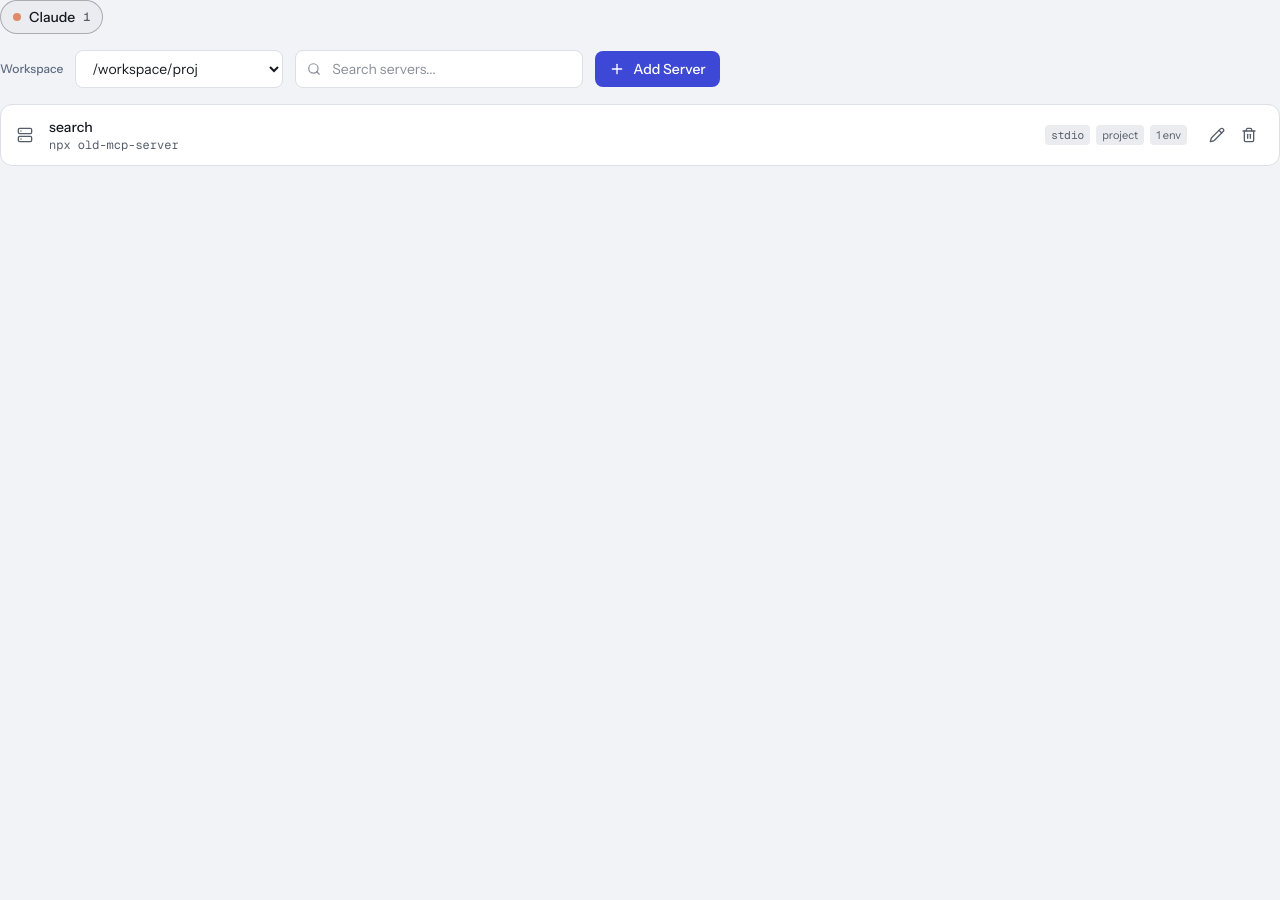
Test: McpPage modal edit › editing a server pre-fills the form and saves via remove-then-add
Expected: the text "search" is shown, [49,118,93,136]
Click the button named "Edit search" at (1217, 135), box [1203,121,1231,149]
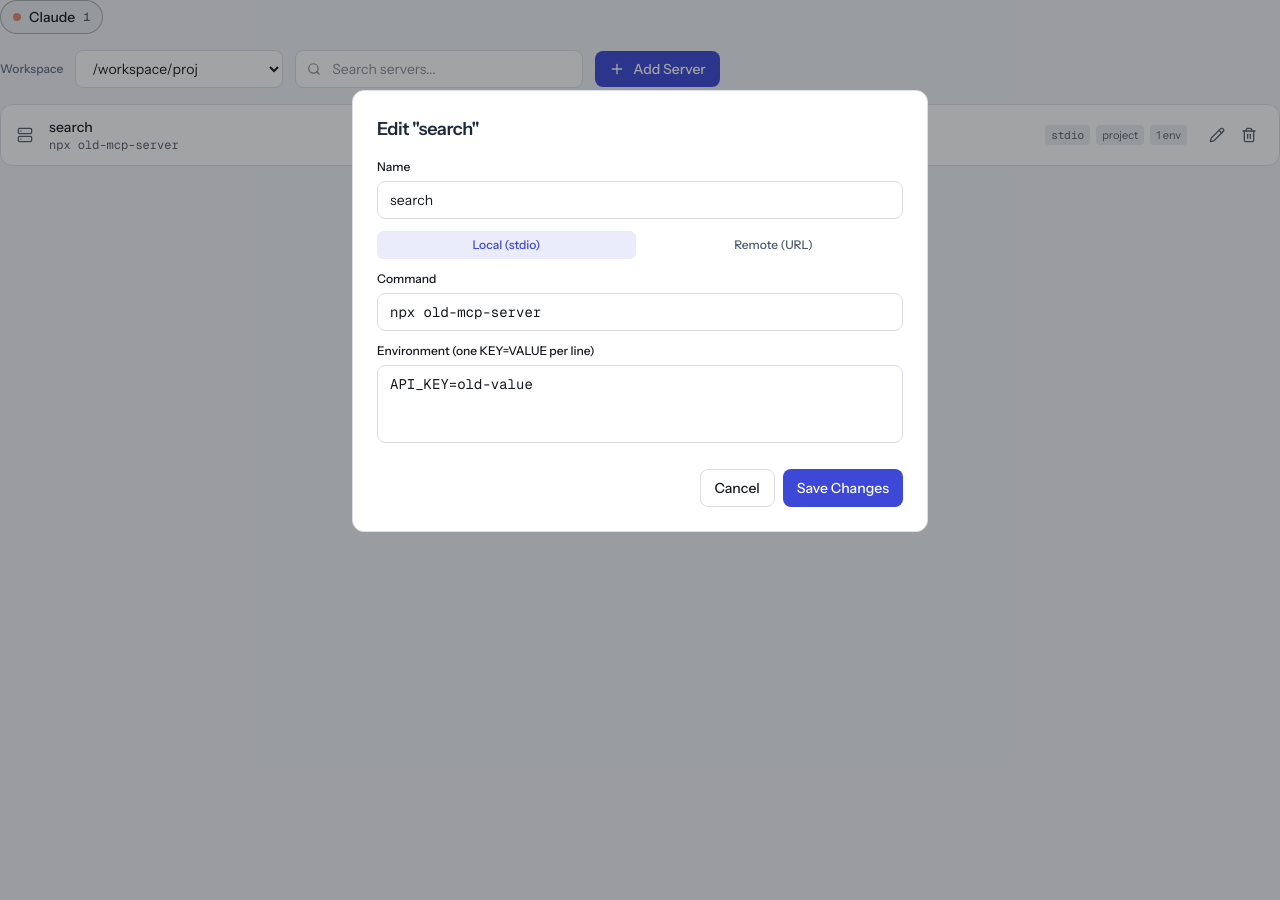
Result: the heading "Edit \"search\"" is shown at [377,118,479,140]
Result: the field with placeholder "my-server" holds "search" at [377,181,903,219]
Result: the field with placeholder "npx my-mcp-server --flag" holds "npx old-mcp-server"
Replace the text in the field with placeholder "npx my-mcp-server --flag" with "npx new-mcp-server" at (640, 312), box [377,293,903,331]
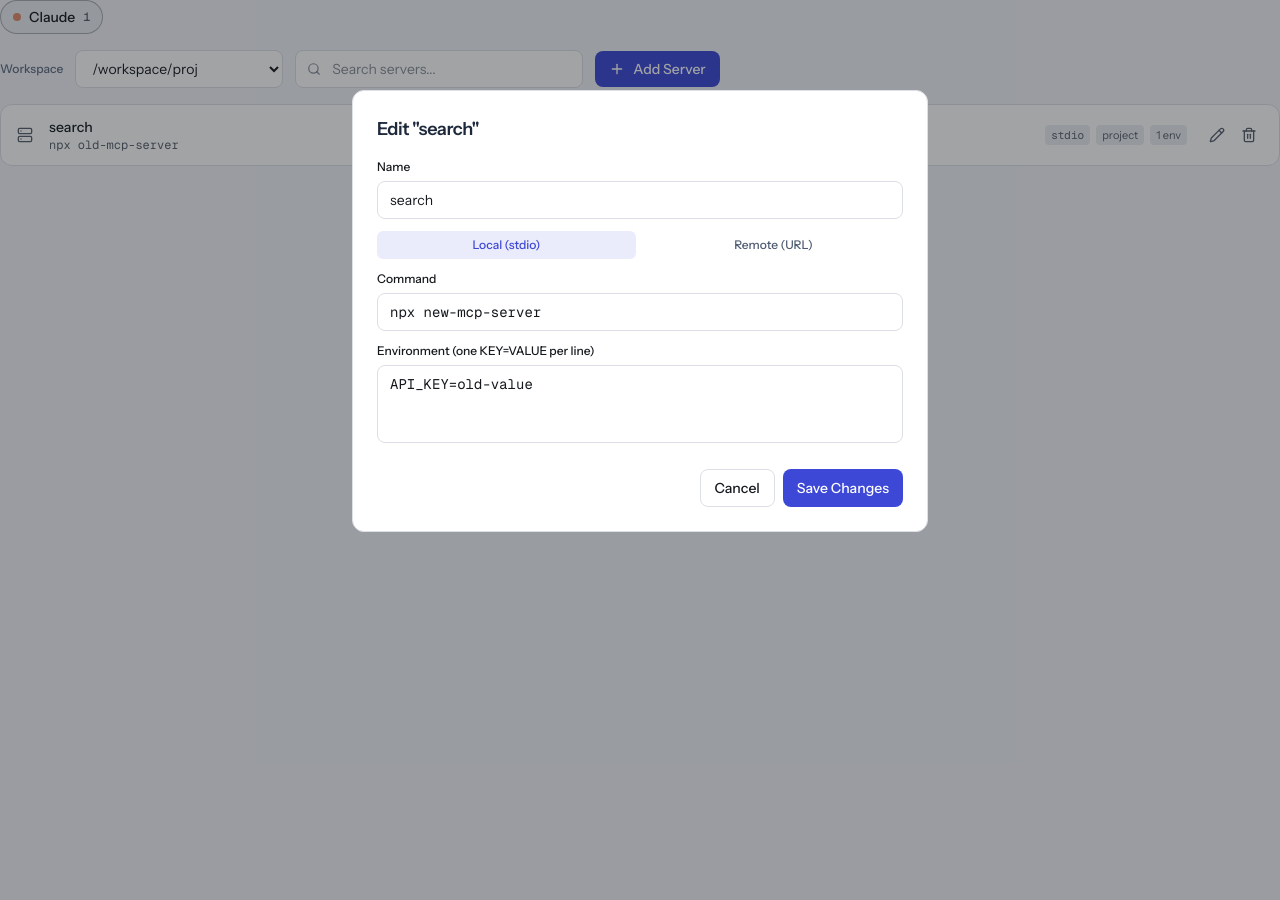
Click the button "Save Changes" at (843, 488), box [783,469,903,507]
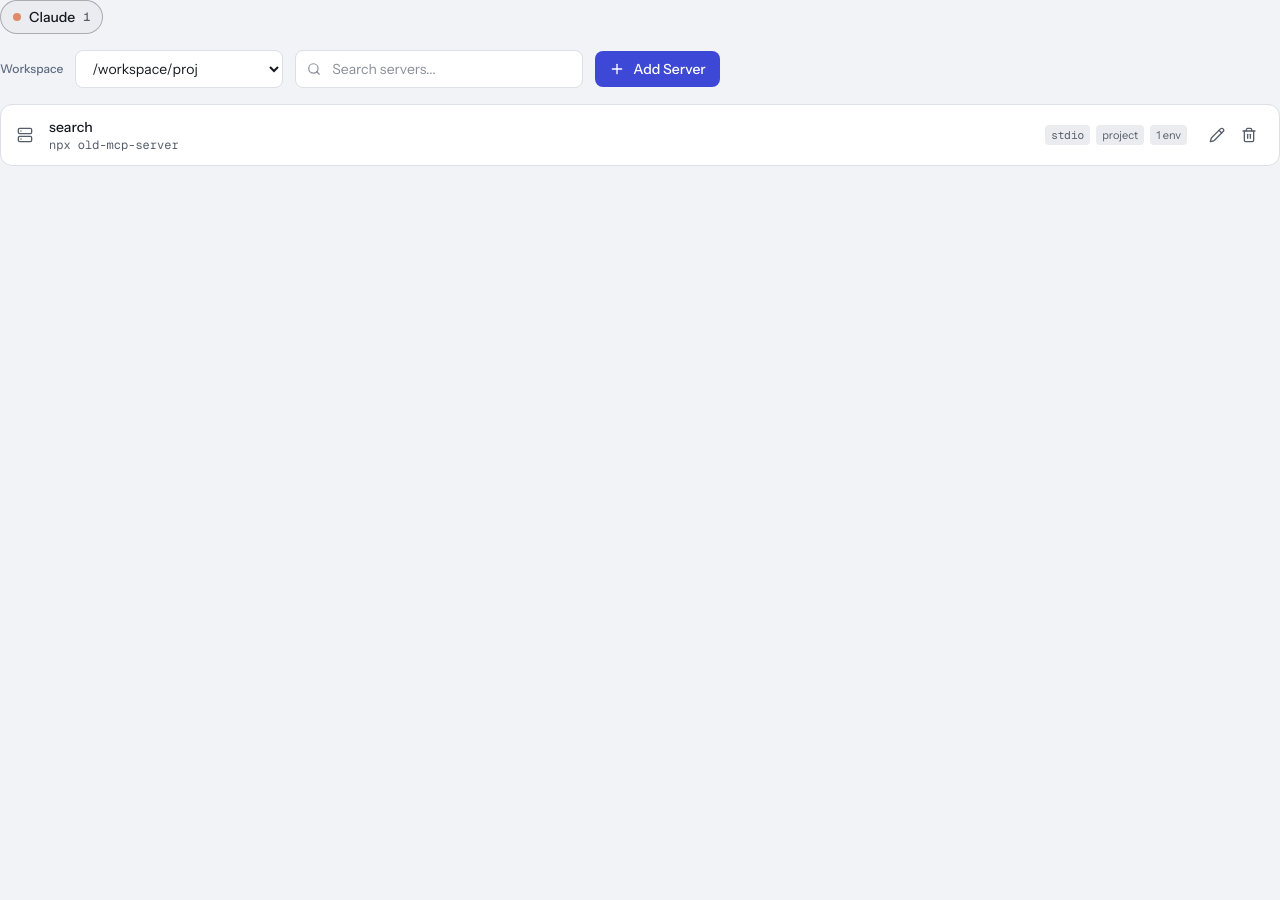
Expected: the button "Add Server" is shown, [595,51,720,87]
Result: the heading "Edit \"search\"" is gone
